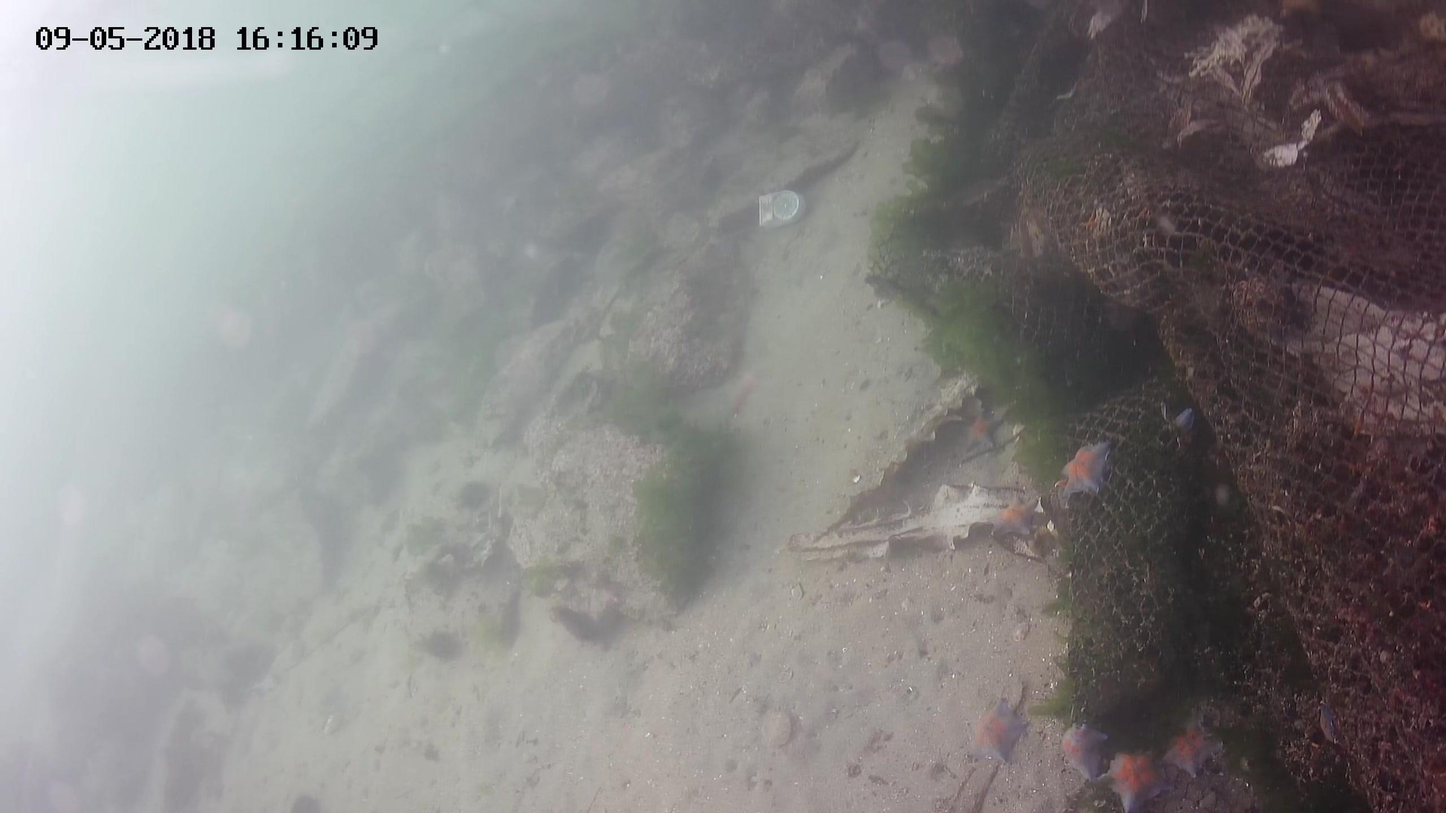holothurian: (1099, 749, 1164, 811), (962, 703, 1021, 764), (1056, 723, 1108, 781), (1160, 723, 1217, 774), (1062, 442, 1115, 492), (990, 495, 1041, 544), (958, 416, 998, 452)
scallop: (757, 713, 796, 751)
starfish: (452, 479, 494, 512), (422, 631, 455, 662)
